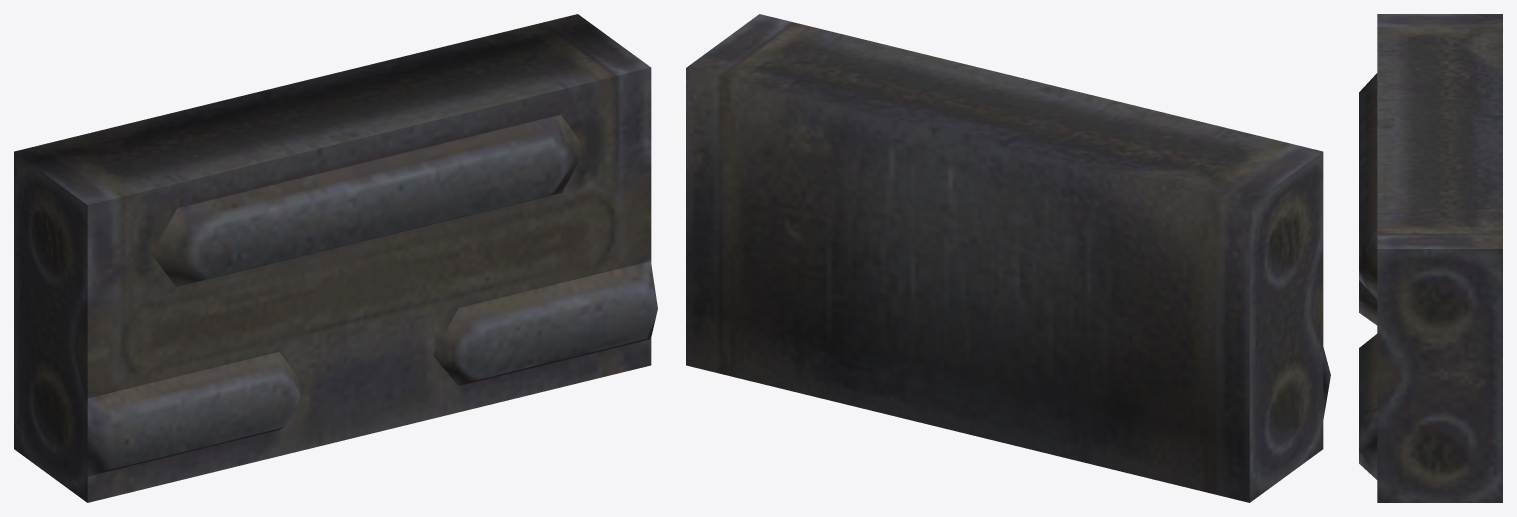
3 renders of one model, left to right at view 1: azimuth 30°, elevation 25°; view 2: azimuth 150°, elevation 25°; view 3: azimuth 270°, elevation 25°, orthographic. The views are drawn at different scales.
Visible parts, largest first — view 1: set_0_group_0; view 2: set_0_group_0; view 3: set_0_group_0.
Boxes of the visible parts, box(x1,y1,x2,y2) form: set_0_group_0: box(14, 14, 657, 502); set_0_group_0: box(686, 14, 1330, 502); set_0_group_0: box(1359, 14, 1502, 502).
Size of the model in its own units: 0.3066 by 0.1547 by 0.0793.
1 material, 1 textured.
